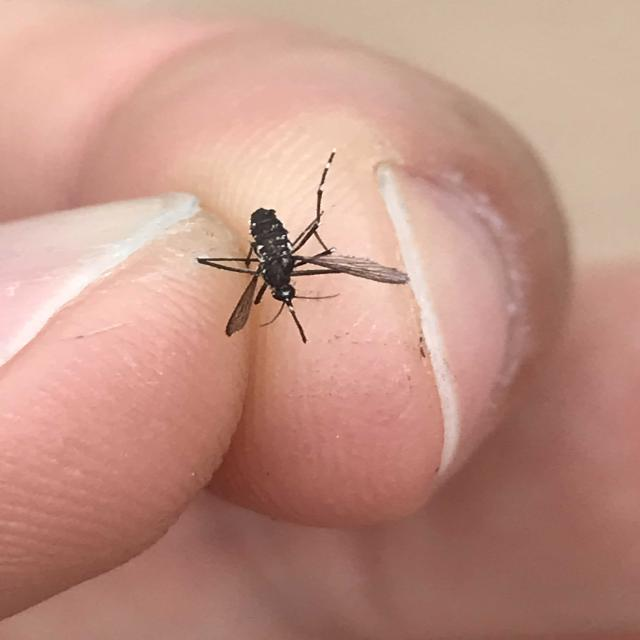albopictus: (180, 142, 408, 345)
